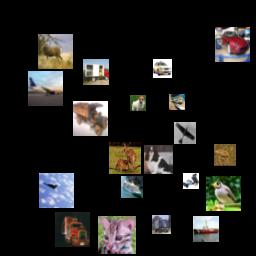airplane: (28, 71, 63, 106), (39, 173, 74, 208), (174, 122, 196, 144)
automobile: (215, 27, 250, 62), (153, 59, 172, 78)
bird: (206, 176, 241, 211)
cat: (98, 216, 136, 254), (169, 94, 185, 110)
deer: (38, 34, 73, 69), (109, 142, 141, 174), (214, 144, 236, 166)
dog: (144, 145, 173, 174), (130, 95, 146, 111)
ship: (193, 216, 219, 242), (121, 176, 143, 198)
truck: (73, 101, 108, 136), (55, 212, 90, 247), (83, 59, 109, 85), (152, 215, 171, 234), (183, 173, 199, 189)
